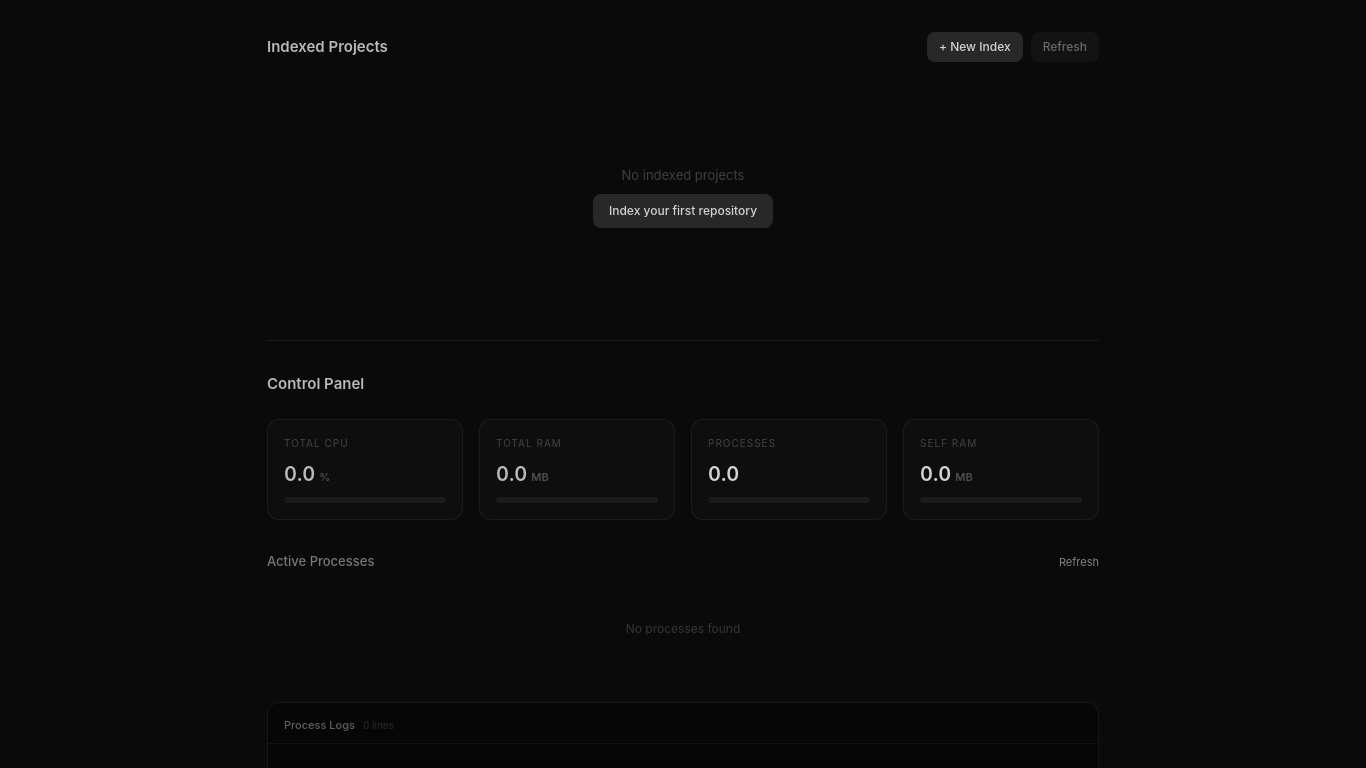
Scenario: Dashboard create-index modal › keeps the modal open when index POST fails
What coordinates should you click on to do the following:
click the button "Index your first repository"
I would click on:
 (683, 210)
Its box is [593,194,773,228].
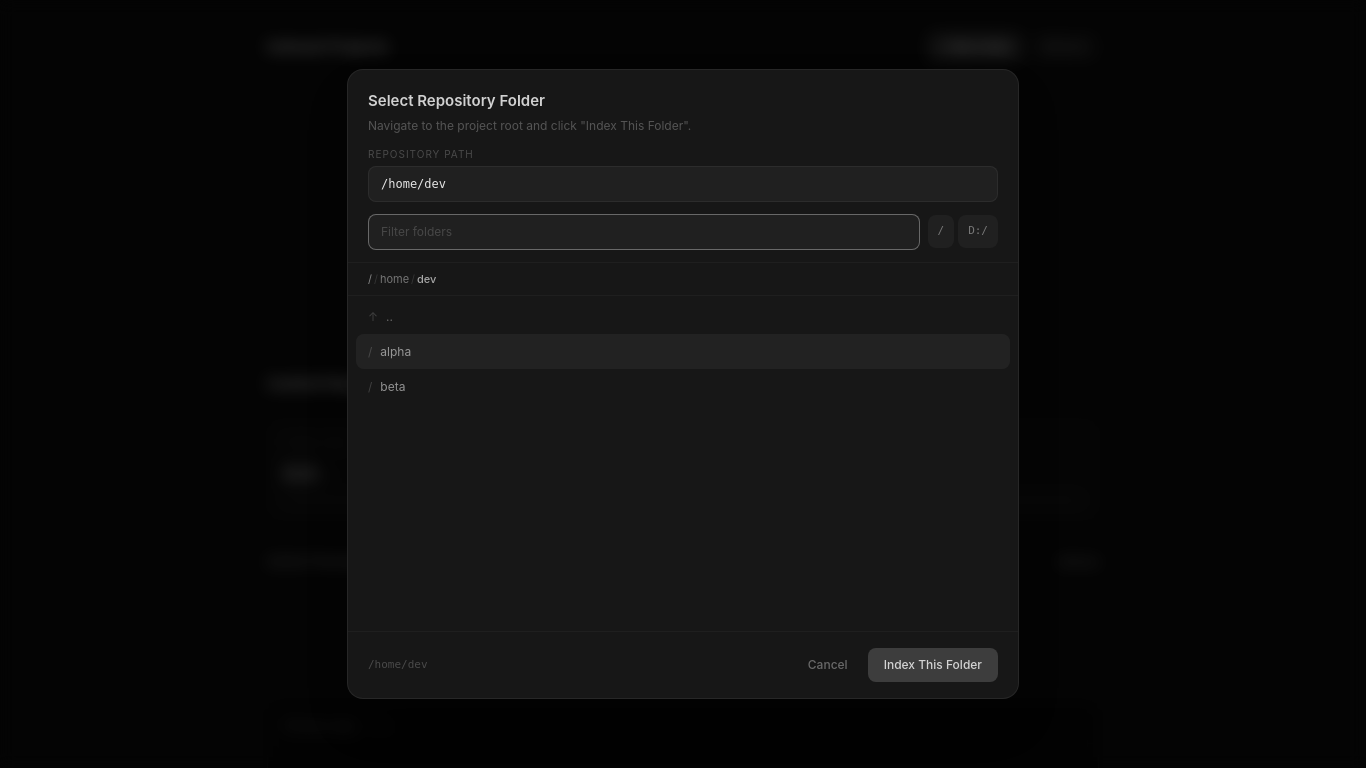
Expected: the field showing "/home/dev" is shown, [368,166,998,202]
What coordinates should you click on to do the following:
click the button "Index This Folder"
I would click on:
 (933, 665)
Its box is [868,648,998,682].
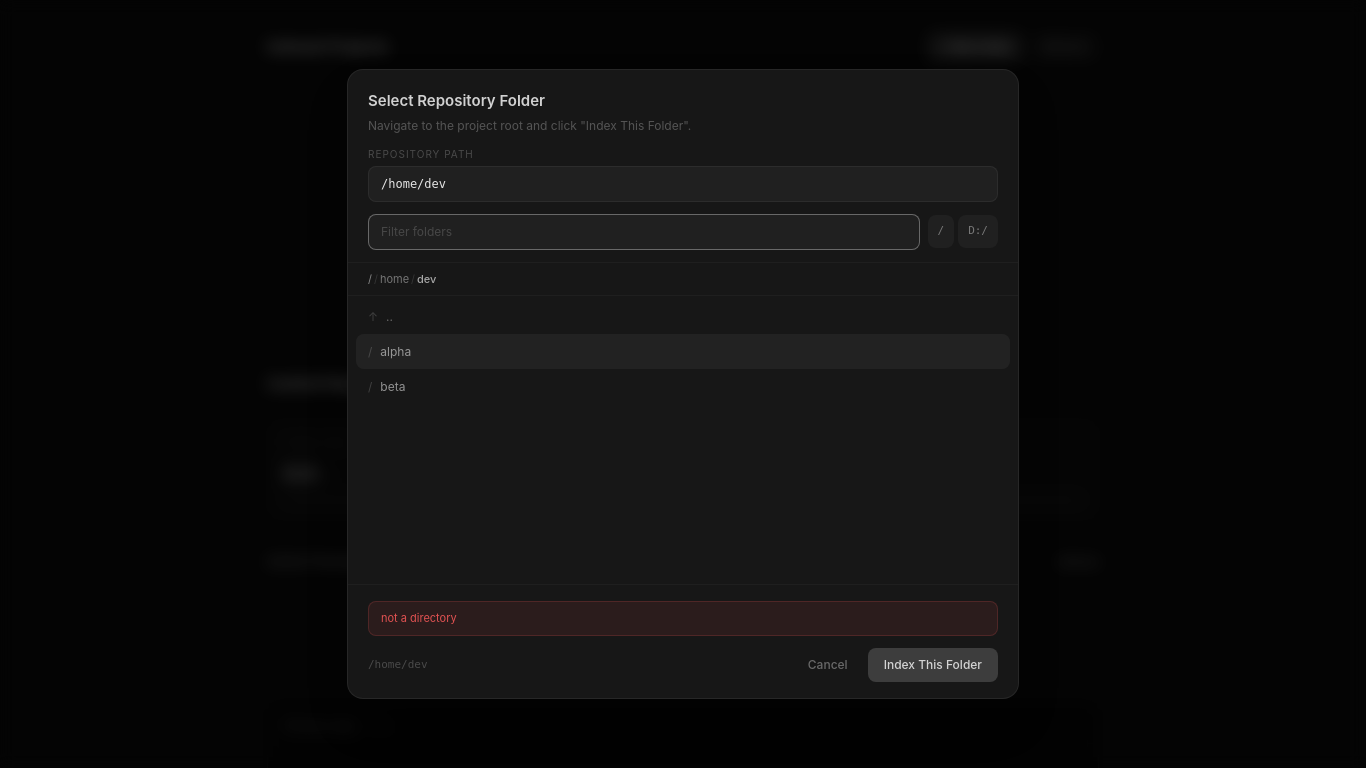
Expected: the heading "Select Repository Folder" is shown, [368,91,545,110]
Expected: the text "not a directory" is shown, [381,611,457,625]
